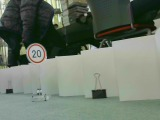speed_20: (25, 41, 48, 65)
